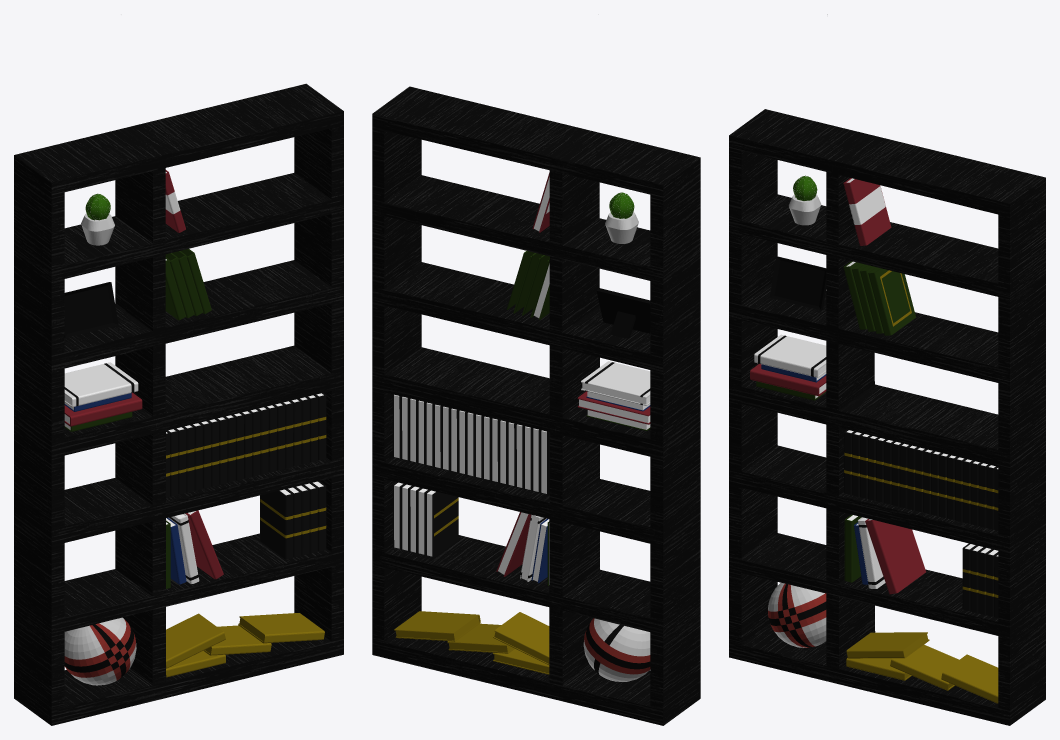
File: Lemari buku.fbx
3 renders of one model, left to right at view 1: azimuth 30°, elevation 25°; view 2: azimuth 150°, elevation 25°; view 3: azimuth 330°, elevation 25°, orthographic. The views are drawn at different scales.
Visible parts, largest first — view 1: Cube, Cube.004, Cube.023, Sphere.001, Cube.017, Cube.015, Cube.018, Cube.025, Cube.026, Cube.006, Cube.008, Cube.012 (+6 smaller); view 2: Cube, Cube.004, Cube.023, Sphere.001, Cube.025, Cube.015, Cube.017, Cube.026, Cube.018, Cube.008, Cube.006, Cube.024 (+5 smaller); view 3: Cube, Cube.004, Cube.017, Sphere.001, Cube.006, Cube.023, Cube.015, Cube.018, Cube.011, Cube.026, Cube.025, Cube.008 (+5 smaller).
Boxes of the visible parts, x1,y1,x2,y2 form: Cube: (14,83,343,725); Cube.004: (166,393,326,497); Cube.023: (260,481,326,559); Sphere.001: (64,617,136,685); Cube.017: (165,248,211,320); Cube.015: (64,282,118,337); Cube.018: (64,362,138,407); Cube.025: (238,613,324,643); Cube.026: (166,613,225,668); Cube.006: (185,510,223,579); Cube.008: (203,625,271,655); Cube.012: (64,392,142,426); Cube: (372,86,700,725); Cube.004: (392,394,549,495); Cube.023: (393,482,458,557); Sphere.001: (583,618,650,681); Cube.025: (394,611,480,641); Cube.015: (596,288,650,338); Cube.017: (506,251,549,319); Cube.026: (493,612,549,664); Cube.018: (581,361,650,405); Cube.008: (447,623,514,653); Cube.006: (496,512,531,576); Cube.024: (520,514,546,581); Cube: (729,109,1045,725); Cube.004: (844,429,998,530); Cube.017: (843,261,915,335); Sphere.001: (768,582,826,647); Cube.006: (865,519,925,594); Cube.023: (962,543,998,617); Cube.015: (769,256,826,310); Cube.018: (754,334,826,377); Cube.011: (843,178,891,245); Cube.026: (846,632,929,658); Cube.025: (941,654,998,703); Cube.008: (890,644,958,690).
Bounding box in the file's own units: 706 × 1566 × 170.
Materials: 14 (1 with a texture image).
